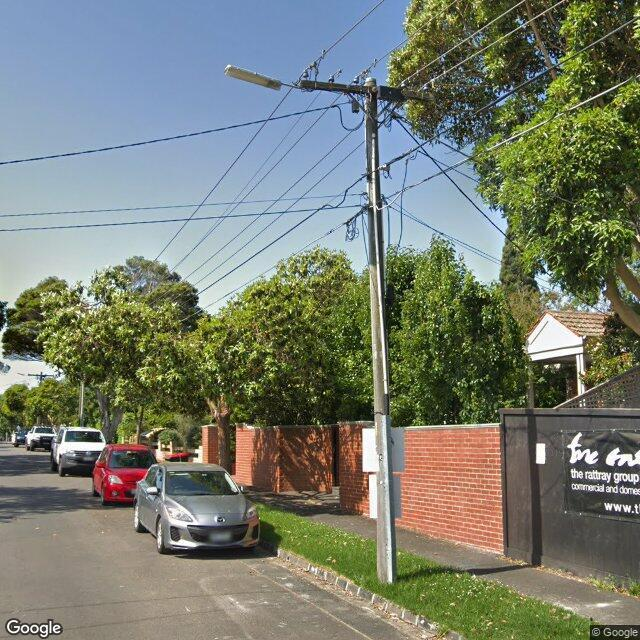crossarm: (300, 79, 434, 104)
streetlight: (224, 65, 299, 91)
timber-pole: (366, 77, 397, 585)
